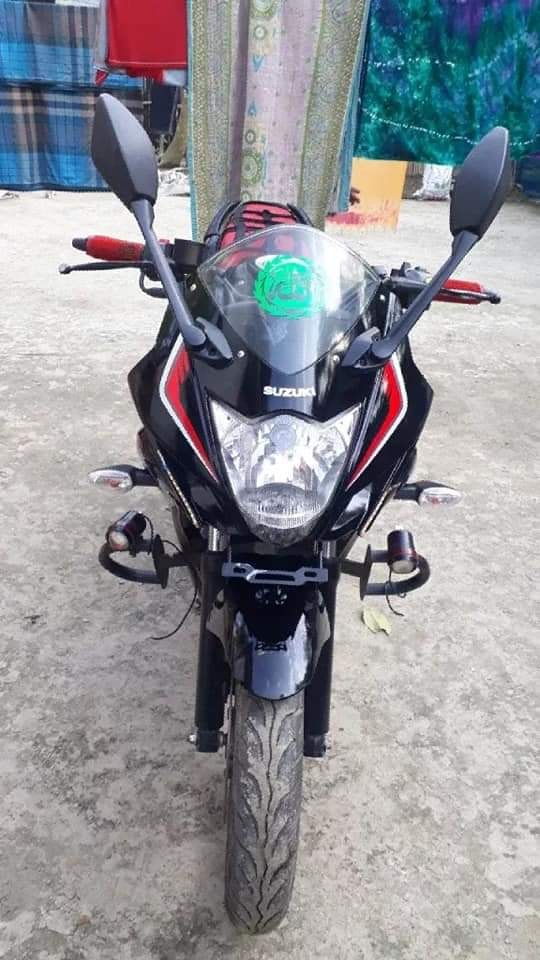bike: (56, 90, 513, 937)
